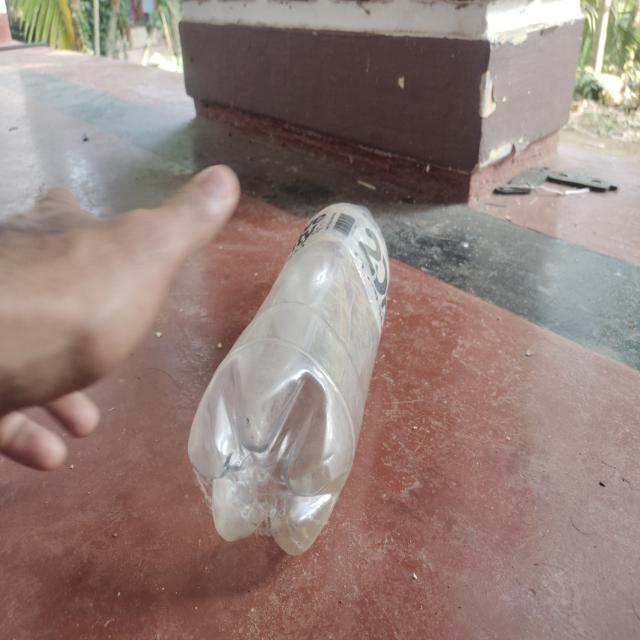plastic: (188, 200, 392, 556)
